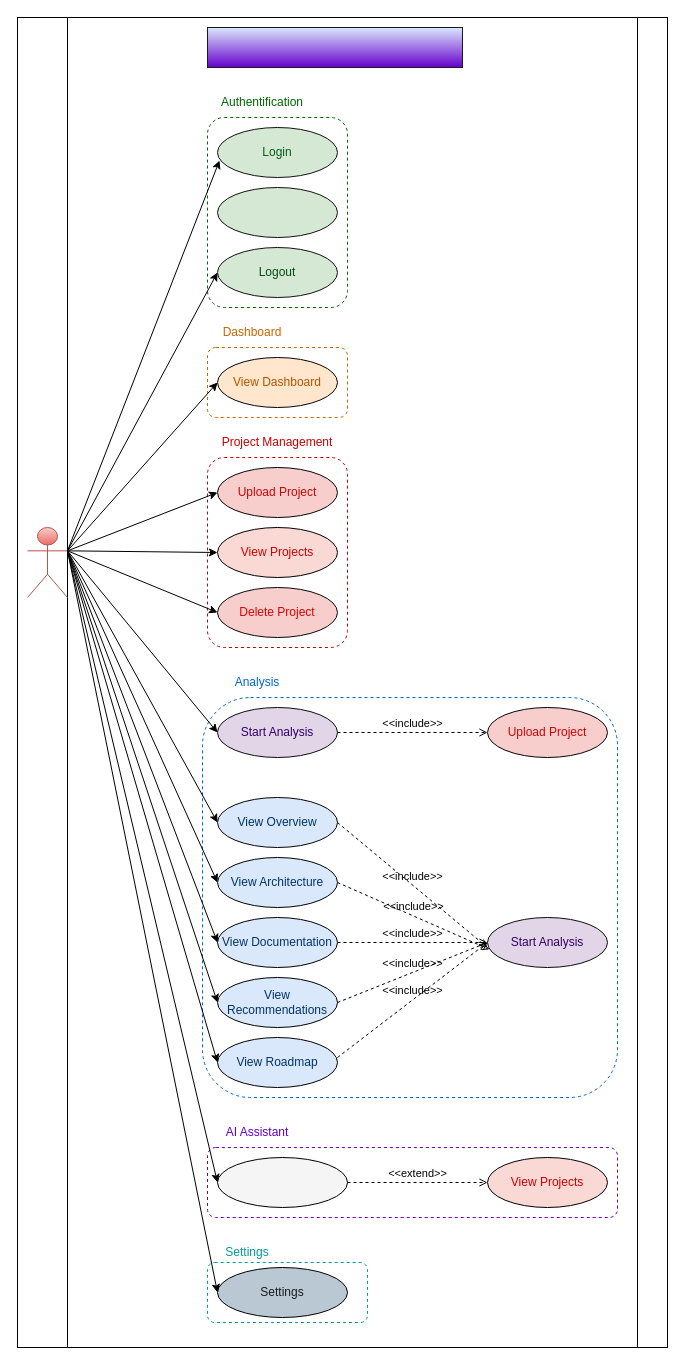
Image size: 685x1365. Some labels were removed from this diagram. The shapes that lost their labels are listed below. From the top down, each one's centre as x and y in pixels, then its label:
At point (334, 47): "LegacyLensAI".
At point (277, 212): "Register".
At point (47, 562): "Actor".
At point (282, 1182): "Chat with AI Assistant".
